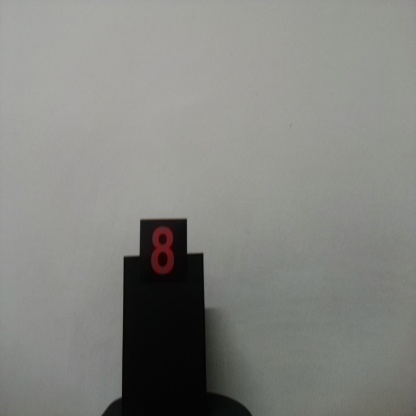id_8: (140, 219, 188, 300)
